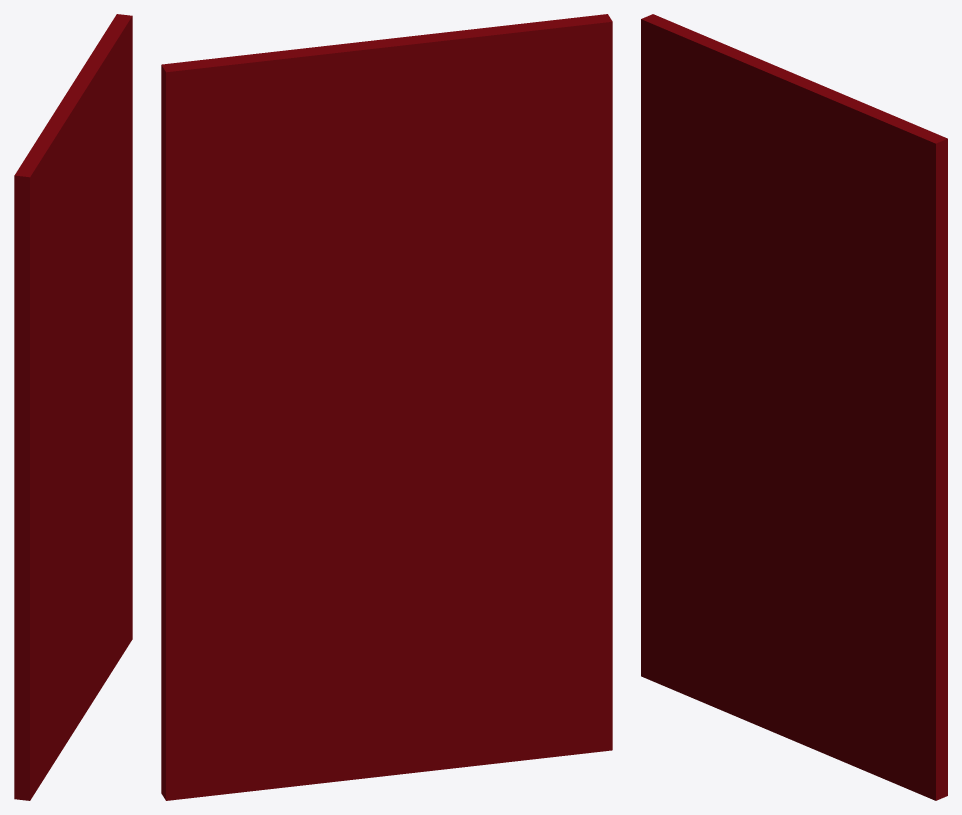
File: BathroomStallDoor3.glb
3 renders of one model, left to right at view 1: azimuth 30°, elevation 25°; view 2: azimuth 150°, elevation 25°; view 3: azimuth 270°, elevation 25°, orthographic. The views are drawn at different scales.
Visible parts, largest first — view 1: DOOR 3.002; view 2: DOOR 3.002; view 3: DOOR 3.002.
Boxes of the visible parts, left/top/right/bottom form: DOOR 3.002: left=14, top=14, right=132, bottom=800; DOOR 3.002: left=161, top=14, right=612, bottom=800; DOOR 3.002: left=641, top=14, right=947, bottom=800.
Size of the model in its own units: 3.6 by 8.5 by 3.6.
